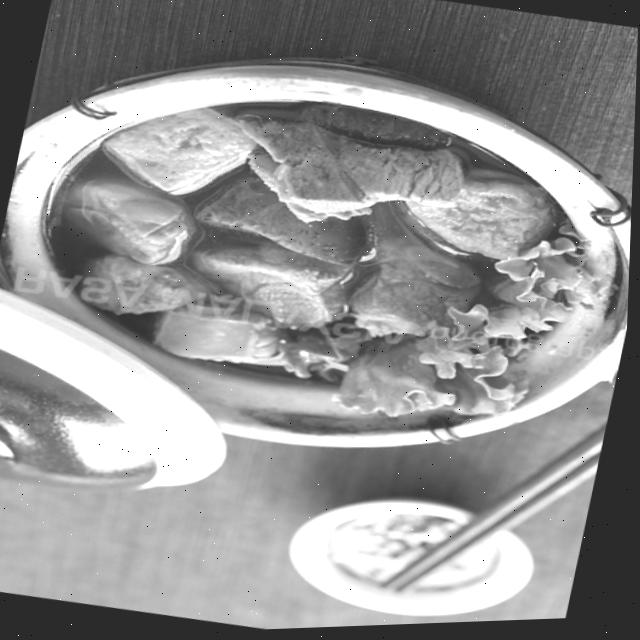汤锅炖物: (0, 43, 638, 491)
